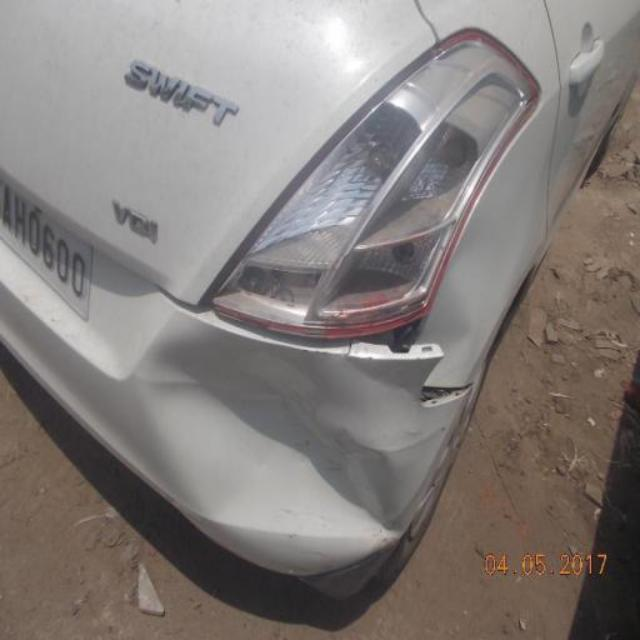dent: (147, 326, 443, 543)
dislocated part: (227, 272, 477, 416)
lamp broken: (226, 36, 531, 328)
